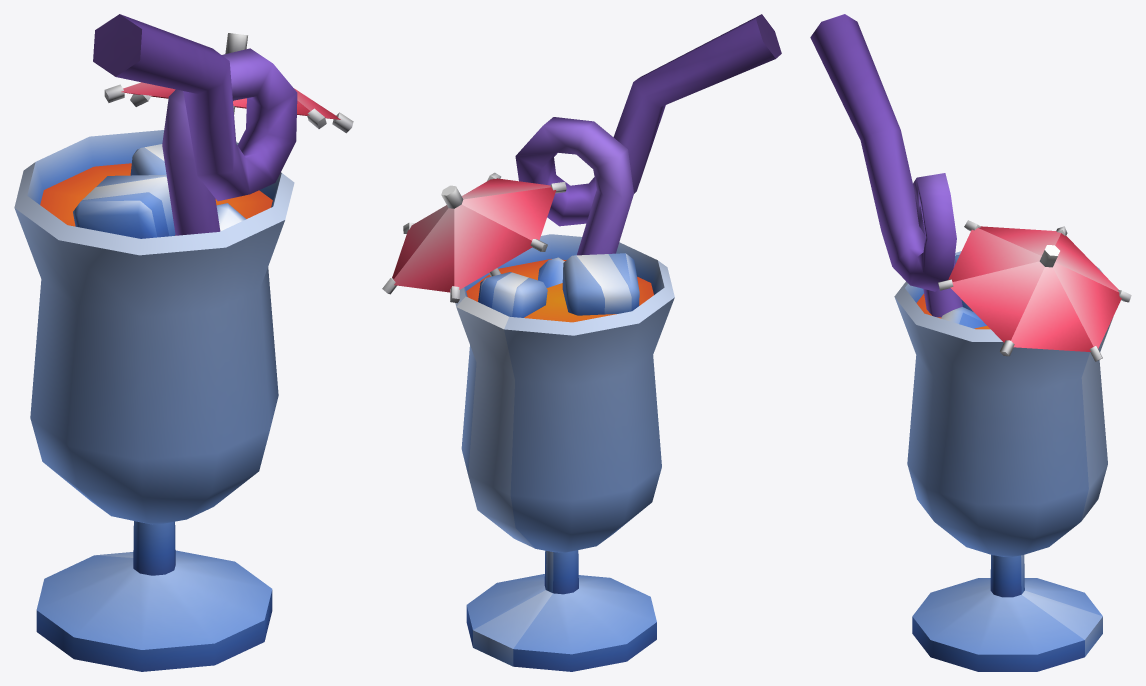
Rendered from m_TequilaSunrise01.fbx.
The picture shows the model from 3 angles, left to right: view 1: azimuth 30°, elevation 25°; view 2: azimuth 150°, elevation 25°; view 3: azimuth 270°, elevation 25°; orthographic projection. The views are drawn at different scales.
Parts seen in each view (by area): view 1: m_TequilaSunrise01; view 2: m_TequilaSunrise01; view 3: m_TequilaSunrise01.
Boxes of the visible parts, x1=… form: m_TequilaSunrise01: x1=14, y1=14, x2=353, y2=671; m_TequilaSunrise01: x1=382, y1=14, x2=781, y2=671; m_TequilaSunrise01: x1=810, y1=14, x2=1131, y2=671.
Size of the model in its own units: 17.3 by 32.78 by 16.85.
